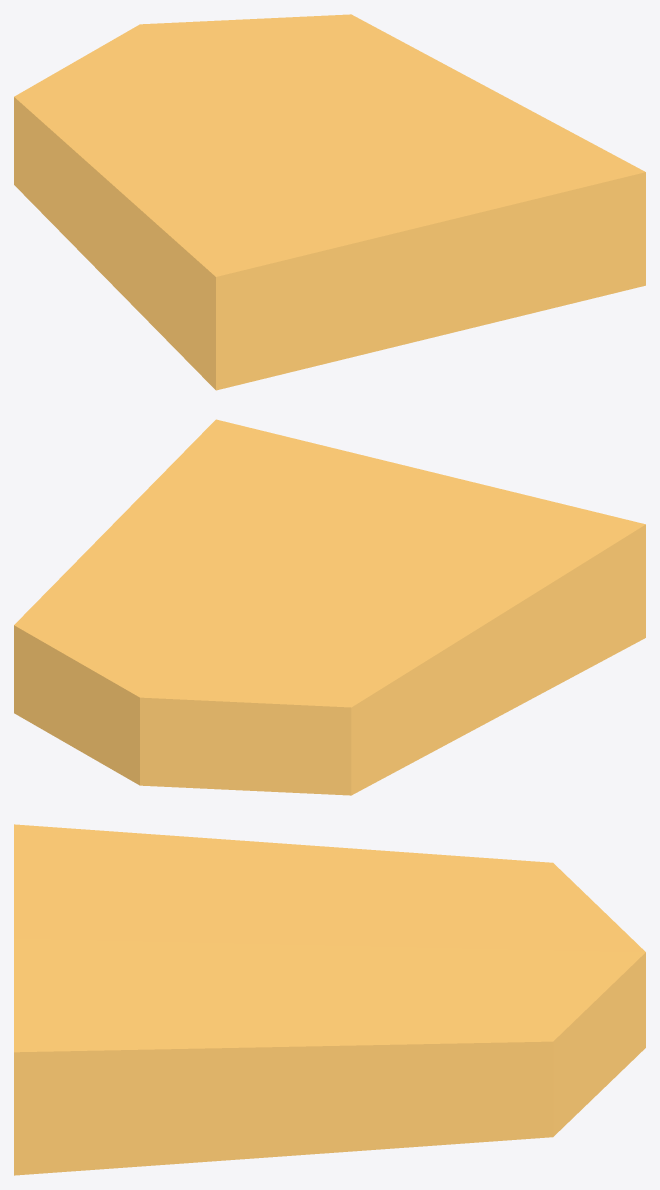
File: piece.glb
The picture shows the model from 3 angles, top to bottom: view 1: azimuth 30°, elevation 25°; view 2: azimuth 150°, elevation 25°; view 3: azimuth 270°, elevation 25°; orthographic projection. The views are drawn at different scales.
Visible parts, largest first — view 1: Piece; view 2: Piece; view 3: Piece.
Boxes of the visible parts, left/top/right/bottom form: Piece: left=14, top=14, right=645, bottom=390; Piece: left=14, top=419, right=645, bottom=795; Piece: left=14, top=824, right=645, bottom=1175.
Size of the model in its own units: 2 by 0.5046 by 2.34.
Materials: 1 (1 with a texture image).
